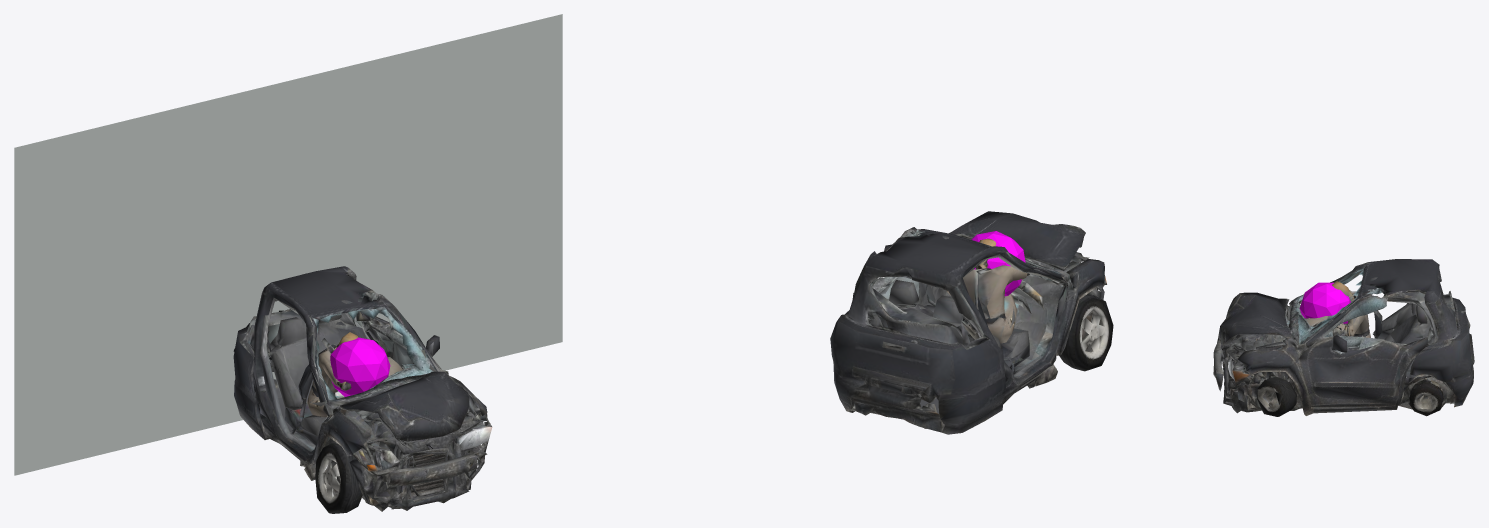
Rendered from airbag.glb.
The picture shows the model from 3 angles, left to right: view 1: azimuth 30°, elevation 25°; view 2: azimuth 150°, elevation 25°; view 3: azimuth 270°, elevation 25°; orthographic projection. The views are drawn at different scales.
Visible parts, largest first — view 1: wall, car_intact, b5_piece_04, b1_piece_03, b1_piece_01, b4_piece_02, b2_piece_01, b1_piece_02, airbag_proxy, b4_piece_01, b5_piece_05, b3_piece_01 (+2 smaller); view 2: car_intact, b5_piece_05, b5_piece_06, b3_piece_01, b5_piece_04, b2_piece_01, b4_piece_02, b2_piece_03, b5_piece_02, b1_piece_03, airbag_proxy; view 3: car_intact, b5_piece_06, b2_piece_02, b5_piece_03, b5_piece_04, b3_piece_02, b4_piece_02, b1_piece_03, b1_piece_02, airbag_proxy, b2_piece_03, b4_piece_01 (+1 smaller).
Part boxes in pixels (x1,y1,x2,y2): wall: [14, 14, 562, 475]; car_intact: [233, 267, 489, 513]; b5_piece_04: [249, 300, 393, 451]; b1_piece_03: [353, 377, 480, 465]; b1_piece_01: [356, 436, 439, 511]; b4_piece_02: [276, 267, 398, 351]; b2_piece_01: [315, 406, 373, 513]; b1_piece_02: [428, 407, 492, 503]; airbag_proxy: [330, 337, 390, 396]; b4_piece_01: [307, 311, 431, 398]; b5_piece_05: [234, 280, 285, 430]; b3_piece_01: [285, 383, 336, 480]; car_intact: [839, 212, 1113, 429]; b5_piece_05: [883, 267, 1003, 434]; b5_piece_06: [830, 251, 887, 416]; b3_piece_01: [1011, 272, 1077, 388]; b5_piece_04: [866, 264, 1027, 399]; b2_piece_01: [1043, 258, 1113, 371]; b4_piece_02: [878, 227, 1011, 286]; b2_piece_03: [949, 222, 1074, 324]; b5_piece_02: [947, 240, 1029, 342]; b1_piece_03: [968, 211, 1086, 266]; airbag_proxy: [971, 231, 1025, 296]; car_intact: [1213, 259, 1474, 414]; b5_piece_06: [1403, 288, 1474, 415]; b2_piece_02: [1240, 344, 1313, 416]; b5_piece_03: [1350, 336, 1420, 408]; b5_piece_04: [1353, 270, 1466, 412]; b3_piece_02: [1289, 335, 1356, 412]; b4_piece_02: [1353, 259, 1441, 316]; b1_piece_03: [1216, 292, 1270, 358]; b1_piece_02: [1213, 353, 1254, 413]; airbag_proxy: [1299, 282, 1350, 323]; b2_piece_03: [1266, 296, 1303, 346]; b4_piece_01: [1299, 270, 1357, 339].
Bounding box in the file's own units: 7 × 4 × 3.44.
4 materials, 1 textured.
